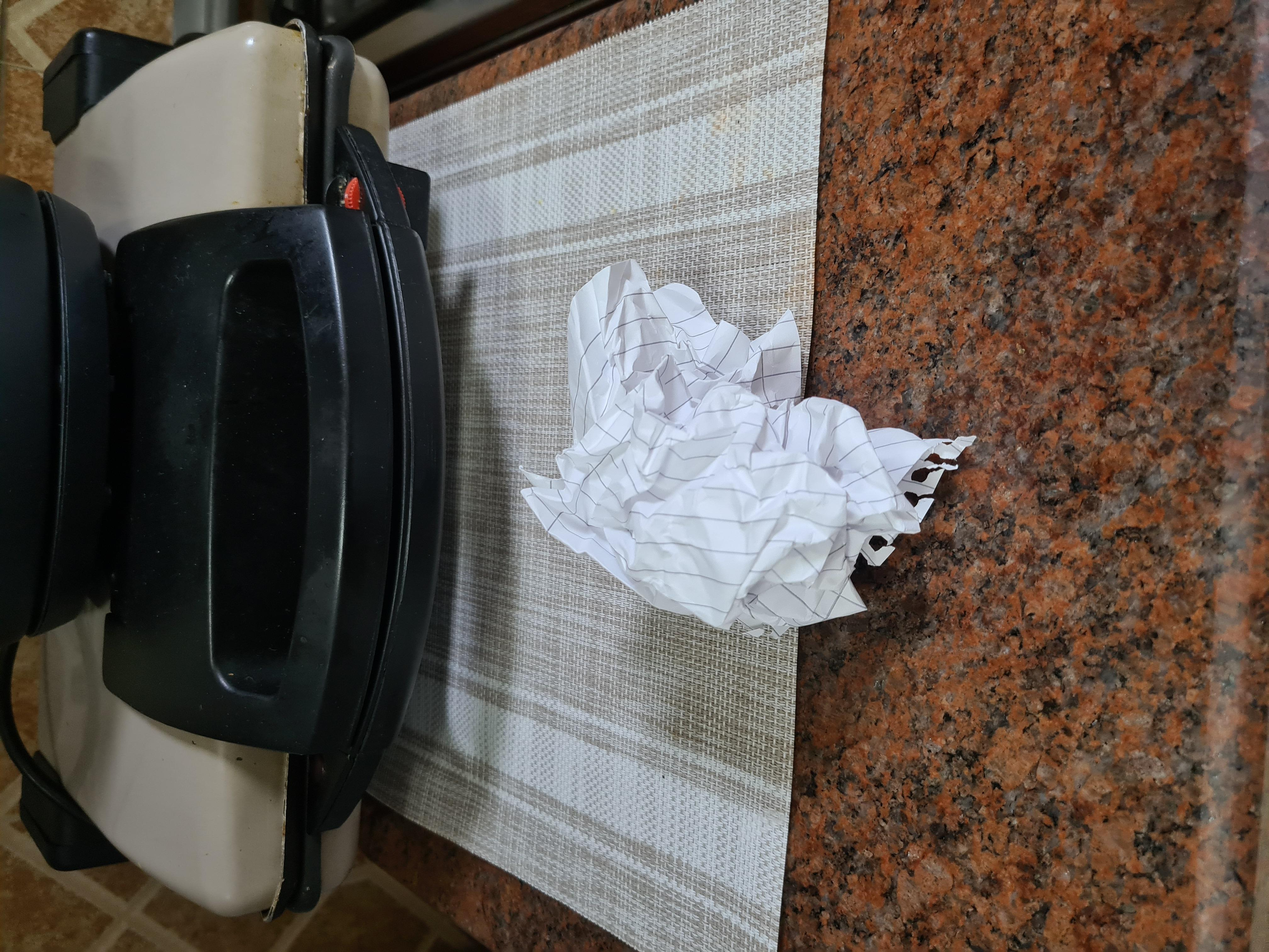paper: (416, 404, 921, 709)
